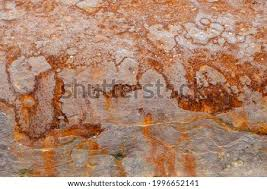rust: (1, 1, 266, 174)
